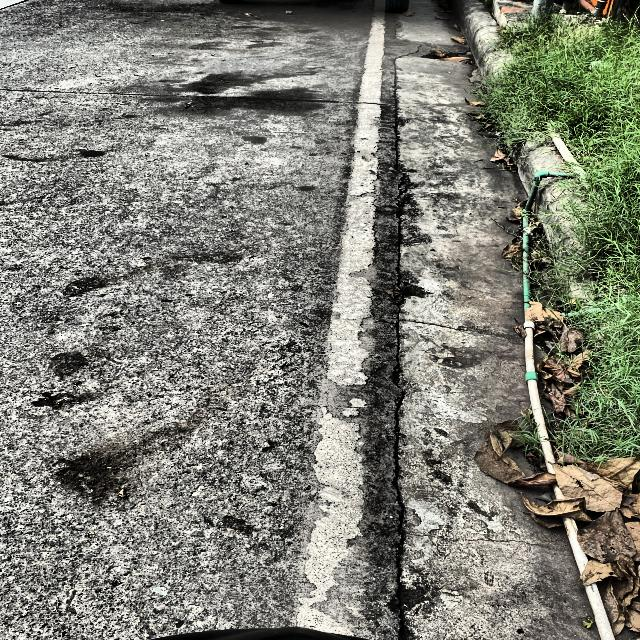no_or_faded_road_markings: (326, 12, 385, 386), (296, 406, 364, 630)
